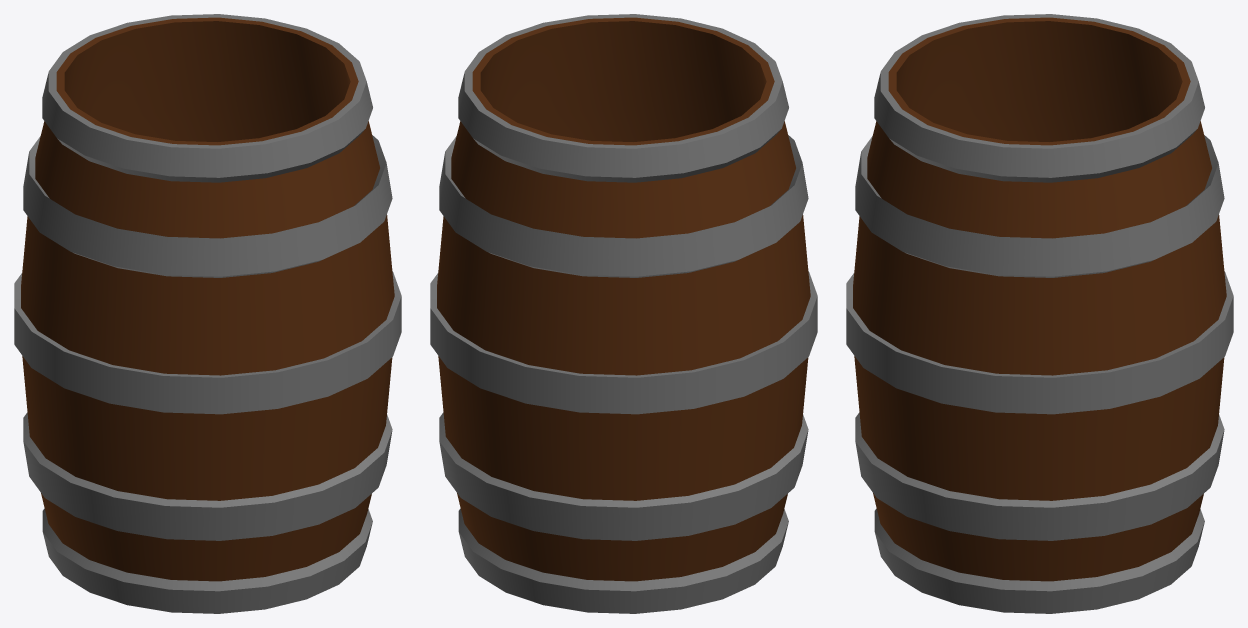
File: Barrel.fbx
The picture shows the model from 3 angles, left to right: view 1: azimuth 30°, elevation 25°; view 2: azimuth 150°, elevation 25°; view 3: azimuth 270°, elevation 25°; orthographic projection.
Parts seen in each view (by area): view 1: Cylinder; view 2: Cylinder; view 3: Cylinder.
Part boxes in pixels (x1,y1,x2,y2): Cylinder: (14,14,401,613); Cylinder: (430,14,817,613); Cylinder: (846,14,1233,613).
Size of the model in its own units: 252 by 333 by 251.
